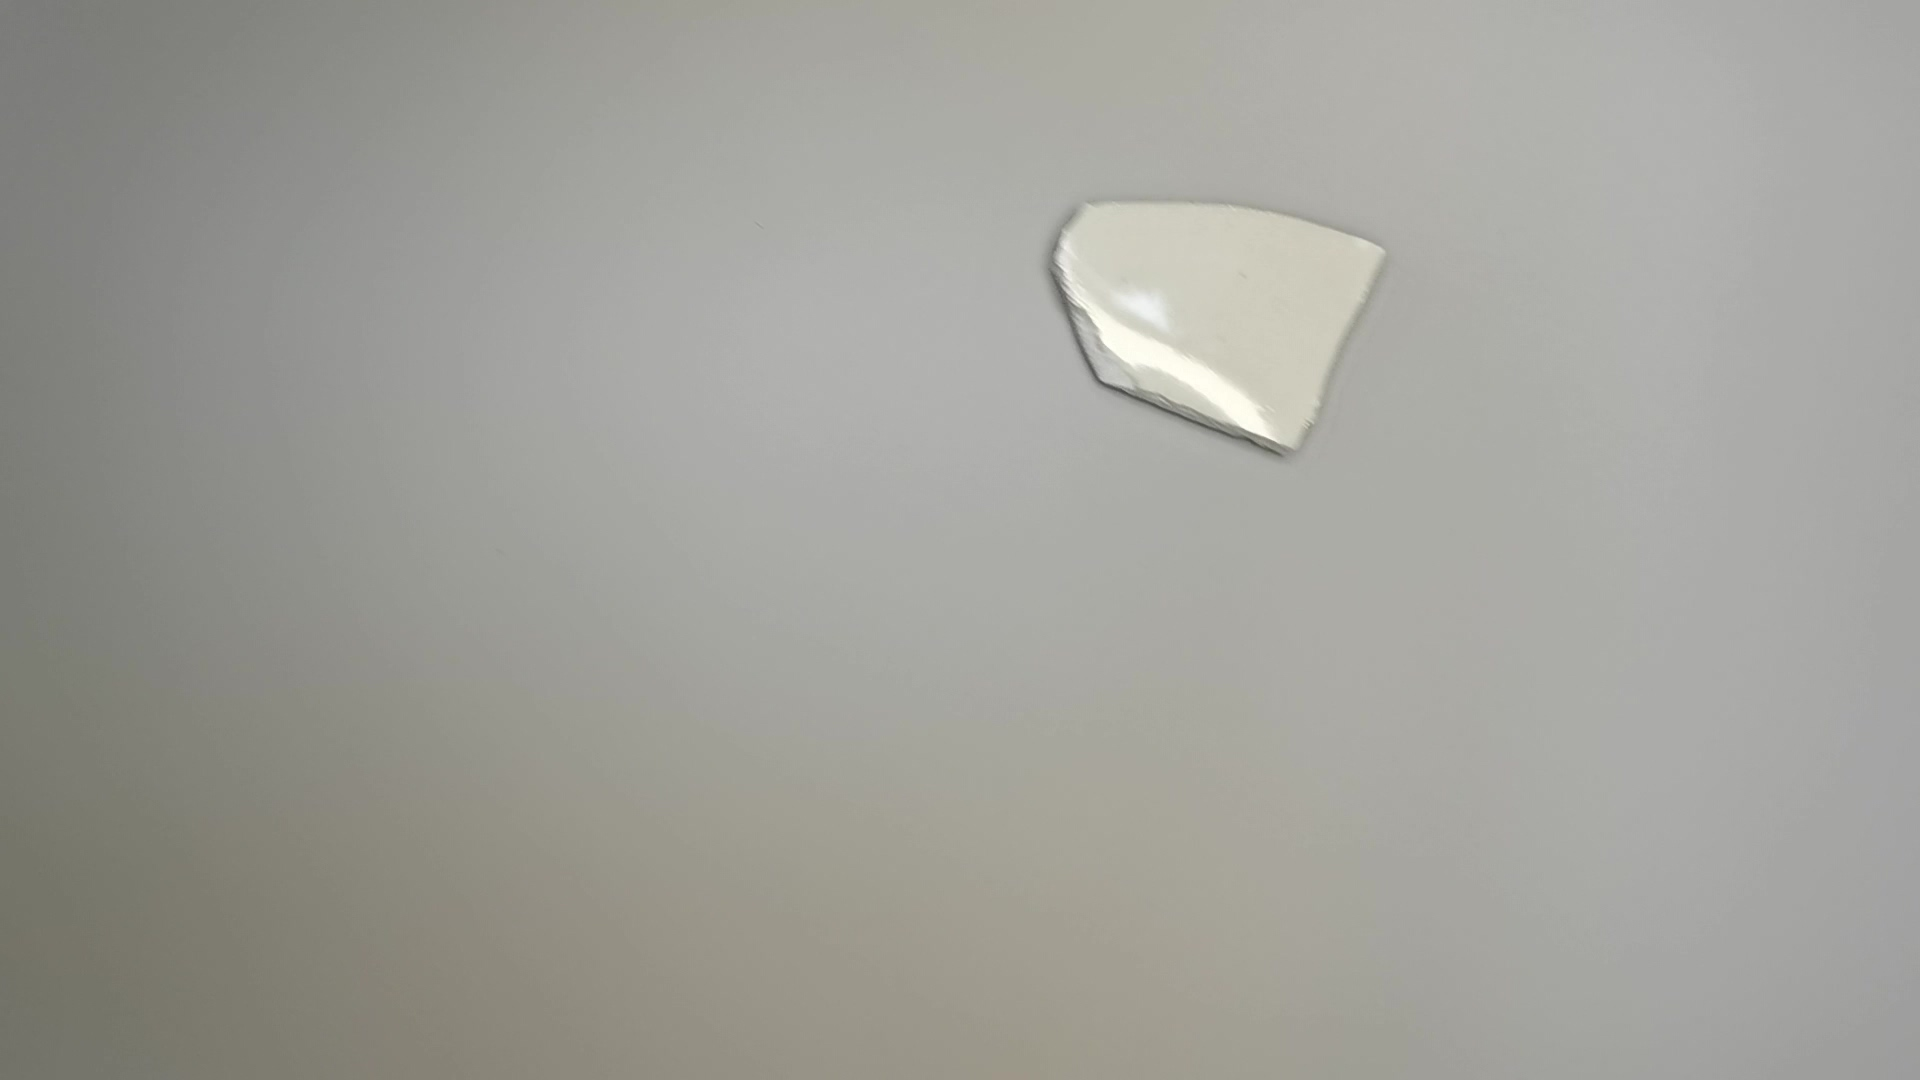ceramic: (1036, 193, 1400, 454)
